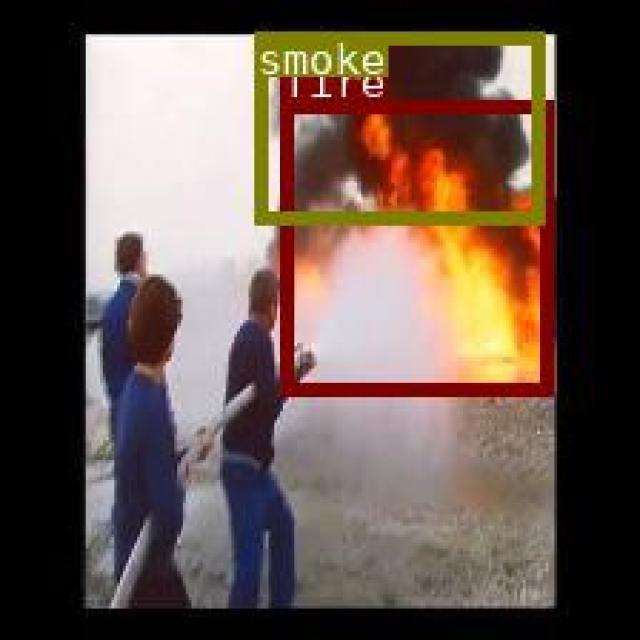fire: (278, 98, 550, 392)
smoke: (253, 30, 543, 222)
